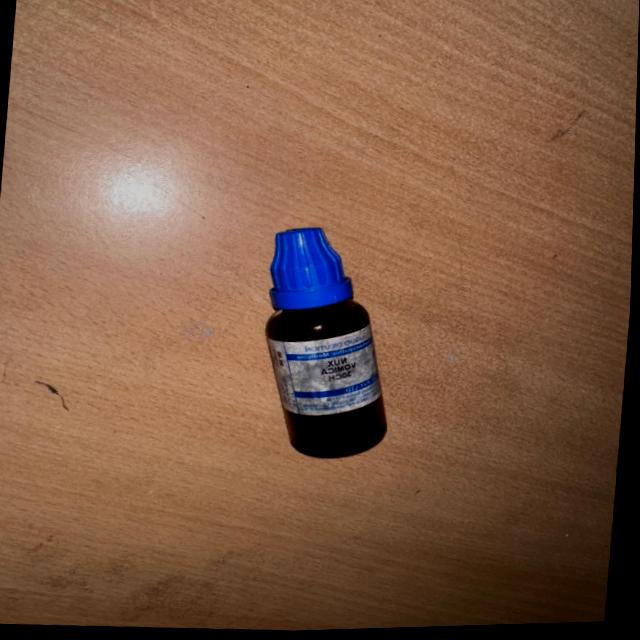medicine: (227, 215, 415, 465)
